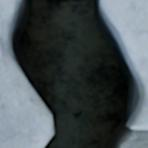broken_brick: (0, 0, 51, 147), (103, 0, 147, 90), (136, 101, 147, 130)
crack: (1, 0, 147, 147)
